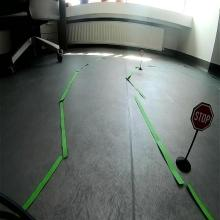stop: (190, 102, 215, 132)
